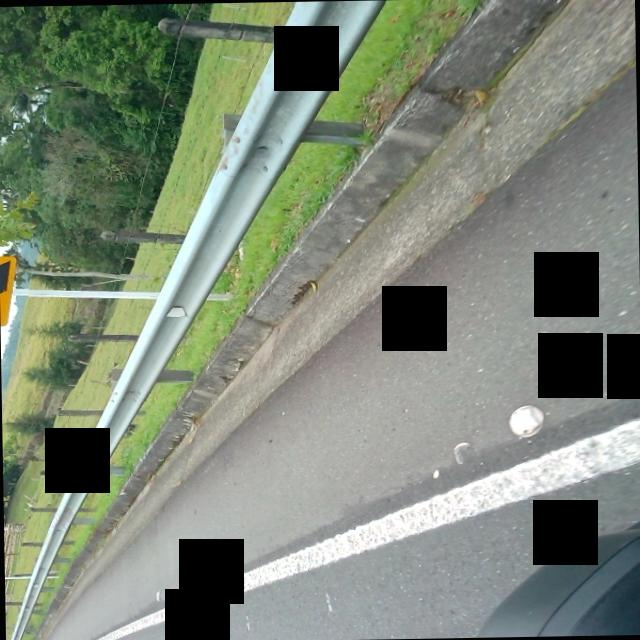DITCH: (23, 0, 640, 640), (42, 0, 640, 629), (50, 0, 640, 631)
